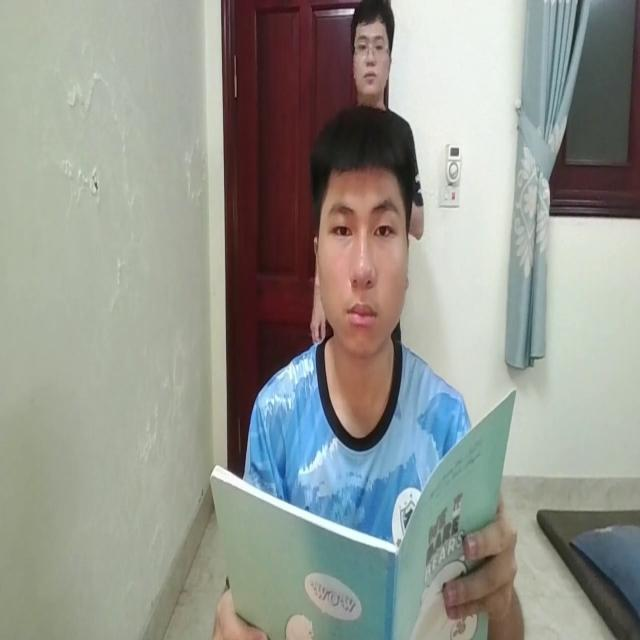book: (204, 385, 518, 638)
extra_person: (347, 1, 394, 108)
student: (229, 106, 469, 474)
